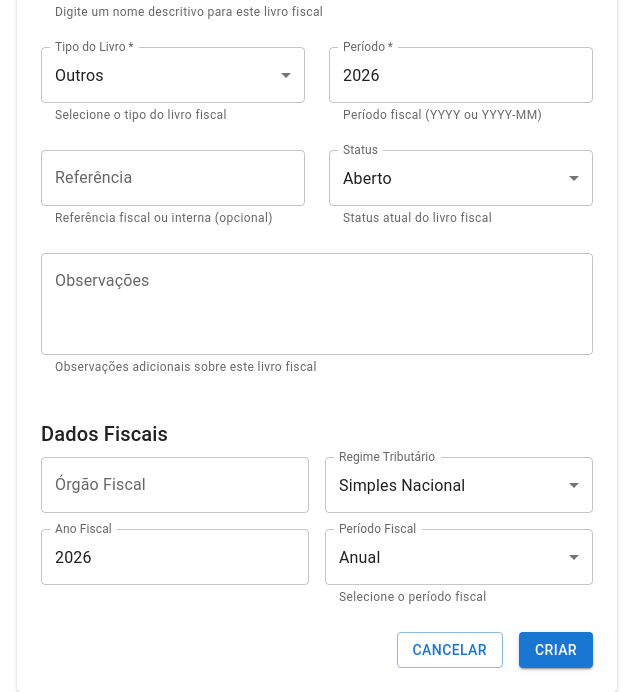
it: FiscalBookForm › validates required fields before submit
(page scrolled)
Click the button "Criar" at (556, 650), box [519,632,593,668]
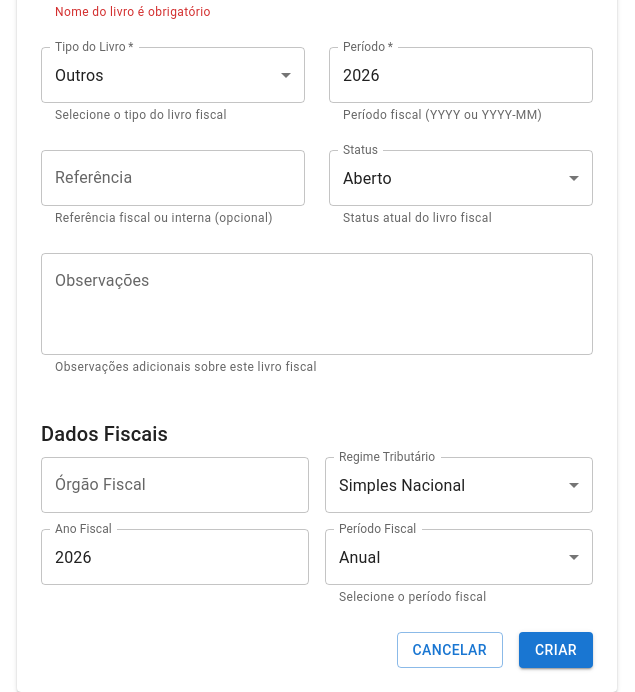
Now the text "Nome do livro é obrigatório" is shown, box [55,5,211,19]
